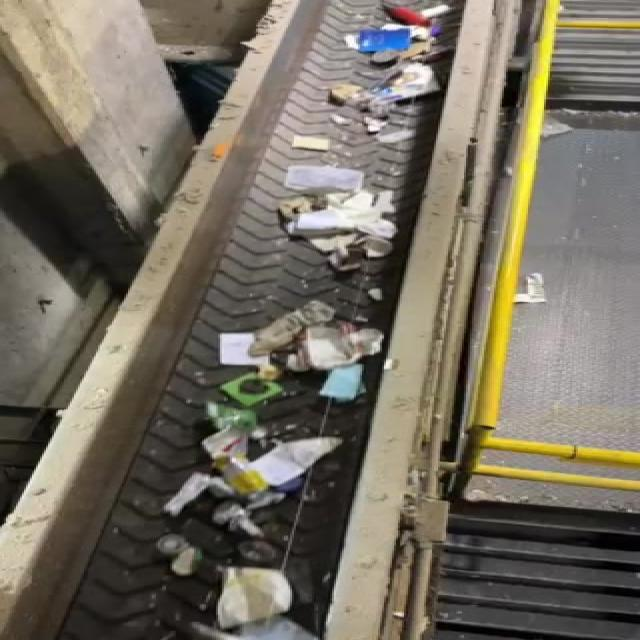metal: (208, 450, 276, 509)
